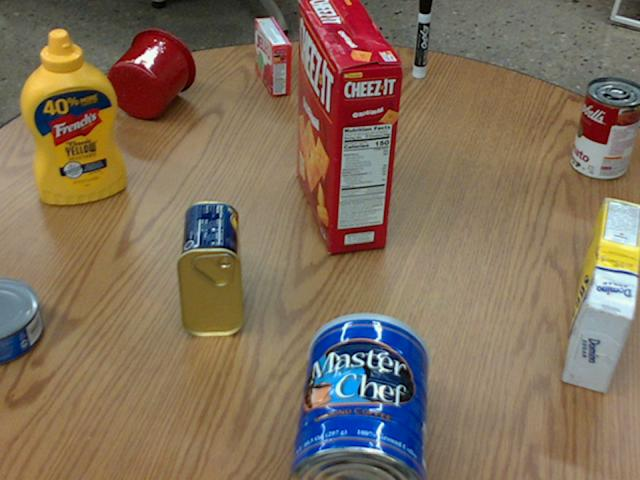cracker_box: (293, 0, 401, 251)
gelatin_box: (255, 17, 292, 95)
large_marker: (412, 0, 431, 76)
master_chef_can: (287, 312, 429, 479)
mug: (106, 28, 195, 118)
mustard_bottle: (21, 29, 124, 203)
potted_meat_can: (175, 200, 240, 336)
sugar_box: (563, 198, 639, 393)
tomato_soup_can: (569, 77, 639, 179)
tuna_fish_can: (0, 276, 42, 360)
